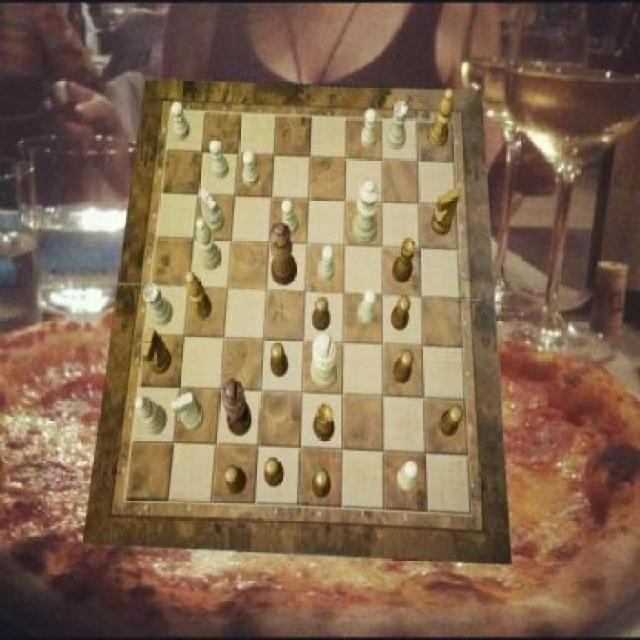bishop: (429, 88, 454, 146), (186, 271, 212, 320)
black-bishop: (222, 379, 252, 436)
black-king: (142, 329, 172, 375), (431, 189, 458, 237)
black-knight: (440, 405, 463, 437), (391, 296, 411, 332), (394, 349, 414, 384), (225, 466, 247, 496), (271, 343, 288, 378), (264, 457, 284, 486), (314, 297, 331, 331), (314, 468, 331, 498)
black-pawn: (269, 222, 297, 286)
black-queen: (394, 237, 417, 282), (312, 403, 335, 441)
black-rook: (197, 217, 221, 271), (136, 397, 168, 435)
white-bishop: (310, 332, 338, 390)
white-king: (171, 392, 204, 431), (200, 188, 226, 233)
white-knight: (209, 140, 229, 180), (171, 102, 190, 140), (397, 460, 419, 492), (362, 108, 378, 149), (318, 246, 336, 282), (243, 149, 260, 187), (359, 290, 376, 326), (283, 200, 300, 236)
white-pawn: (352, 178, 380, 244)
white-queen: (143, 283, 173, 327), (388, 101, 408, 150)
